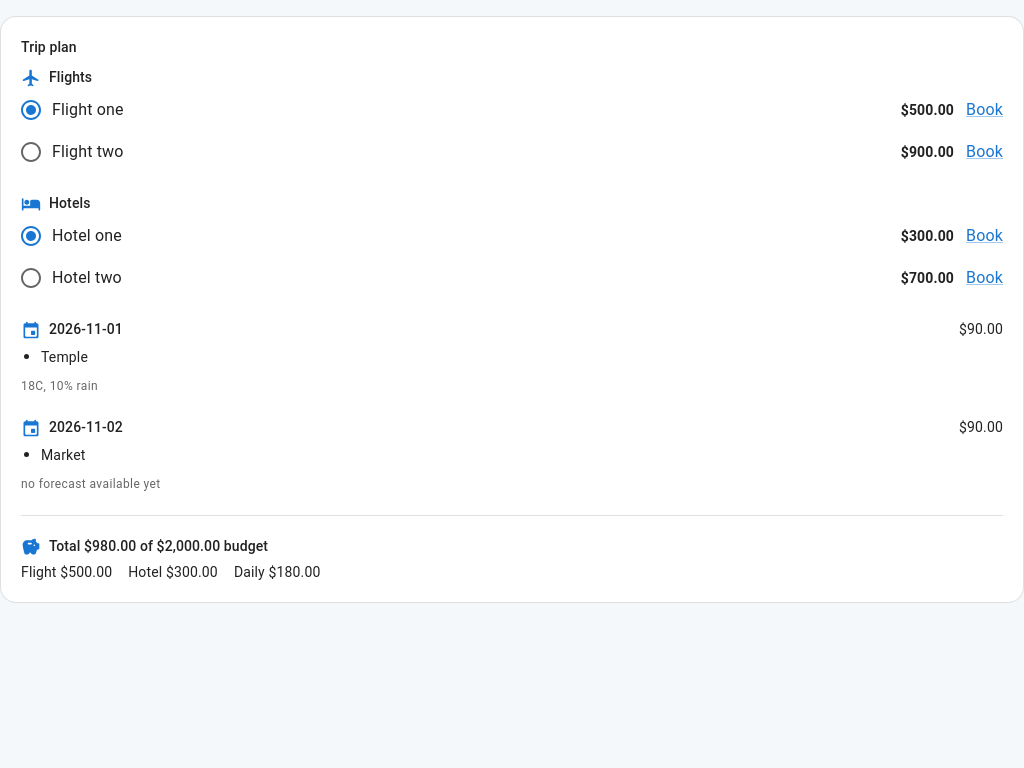
it: PlanCard › recomputes the total from the picked flight and hotel
Expected: the heading "Total $980.00 of $2,000.00 budget" is shown, [49,536,268,558]
Expected: the text "Flight $500.00" is shown, [21,562,112,582]
What coordinates should you click on to do the following:
click the radio button labelled "Hotel two"
I would click on:
 (70, 278)
Its box is [19,266,122,290].
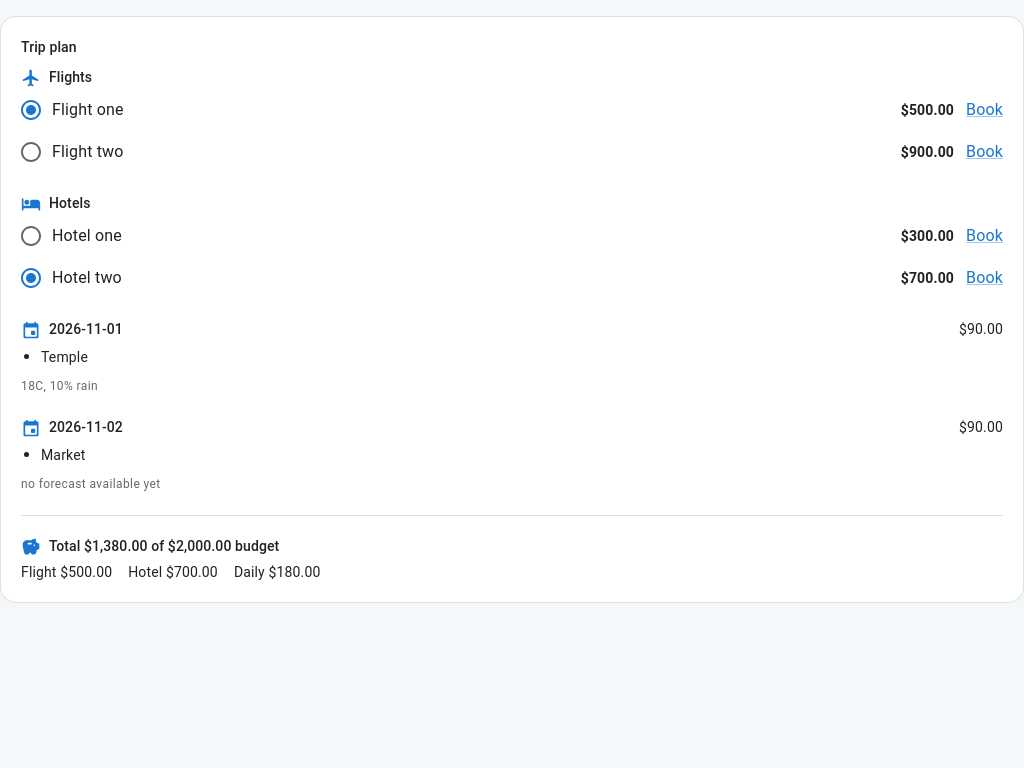
Result: the heading "Total $1,380.00 of $2,000.00 budget" is shown at [49,536,279,558]
Result: the text "Hotel $700.00" is shown at [128,562,218,582]
What coordinates should you click on to do the following:
click the radio button labelled "Flight two"
I would click on:
 (71, 152)
Its box is [19,140,124,164].
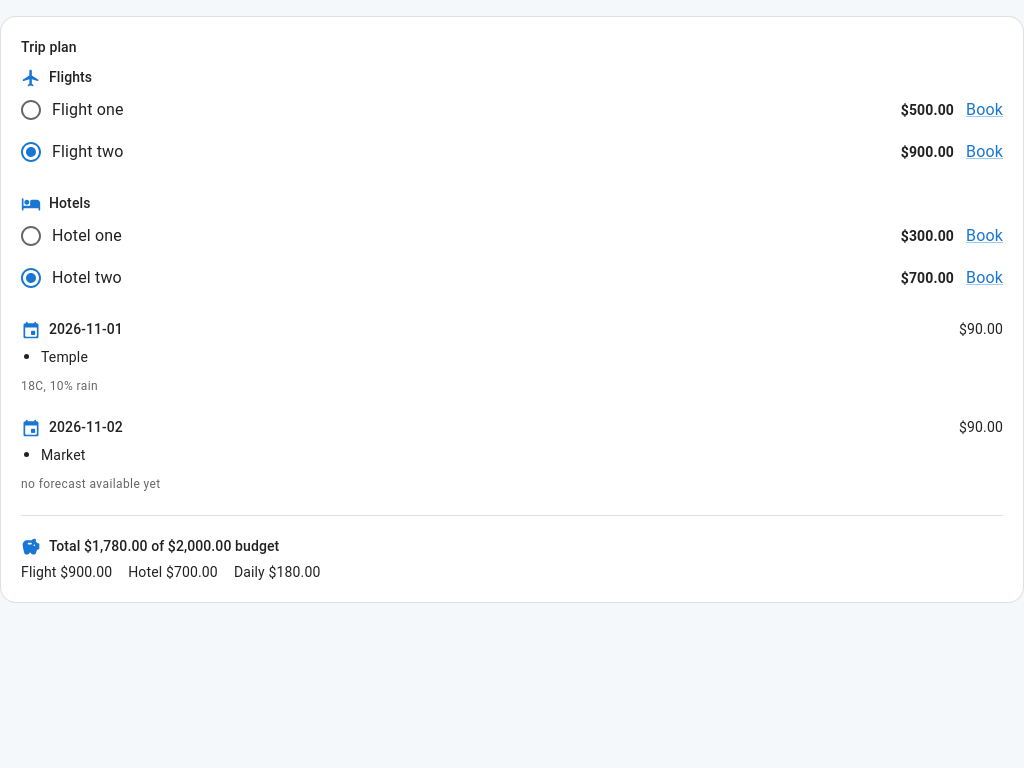
Result: the heading "Total $1,780.00 of $2,000.00 budget" is shown at [49,536,279,558]
Result: the text "Flight $900.00" is shown at [21,562,112,582]
